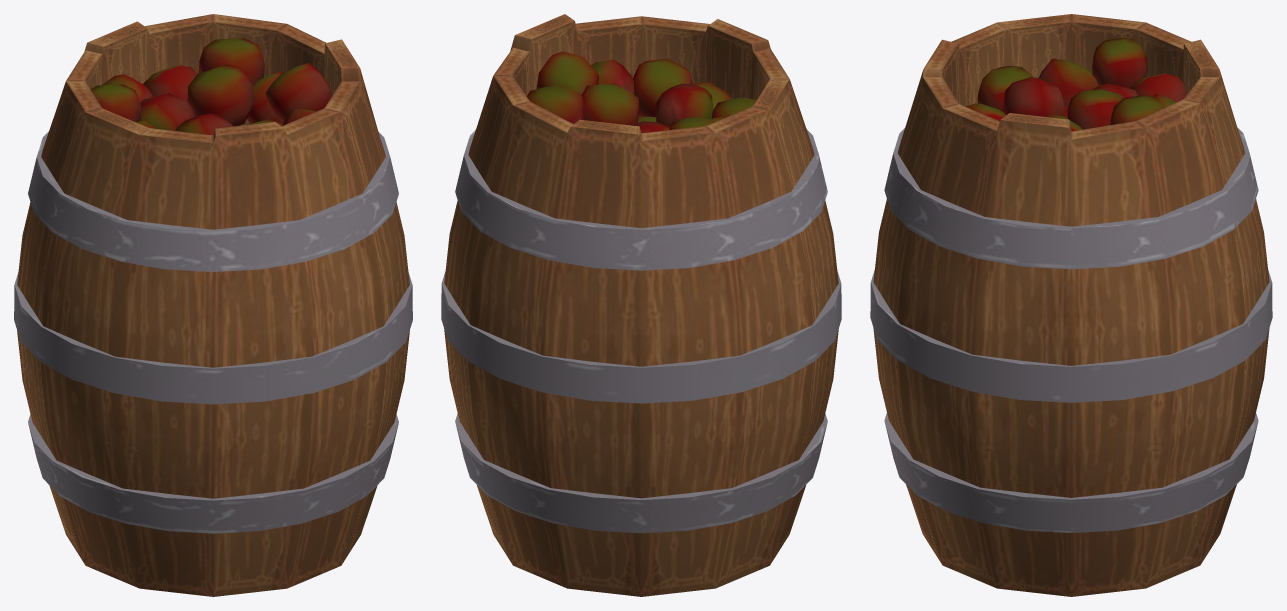
Rendered from barrel_apples.glb.
The picture shows the model from 3 angles, left to right: view 1: azimuth 30°, elevation 25°; view 2: azimuth 150°, elevation 25°; view 3: azimuth 270°, elevation 25°; orthographic projection.
Visible parts, largest first — view 1: Barrel_Apples; view 2: Barrel_Apples; view 3: Barrel_Apples.
Boxes of the visible parts, x1,y1,x2,y2 form: Barrel_Apples: (14, 14, 412, 596); Barrel_Apples: (441, 14, 841, 596); Barrel_Apples: (870, 14, 1272, 596).
Bounding box in the file's own units: 0.698 × 0.898 × 0.698.
Materials: 3 (3 with a texture image).
